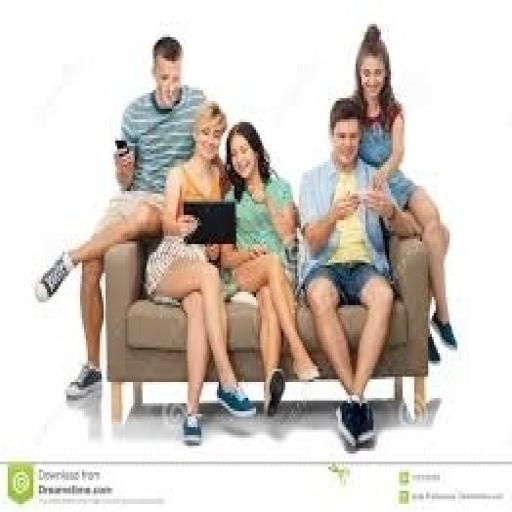sitting: (31, 32, 209, 400), (295, 96, 422, 448), (143, 98, 258, 446), (346, 22, 459, 364), (217, 120, 320, 416)
